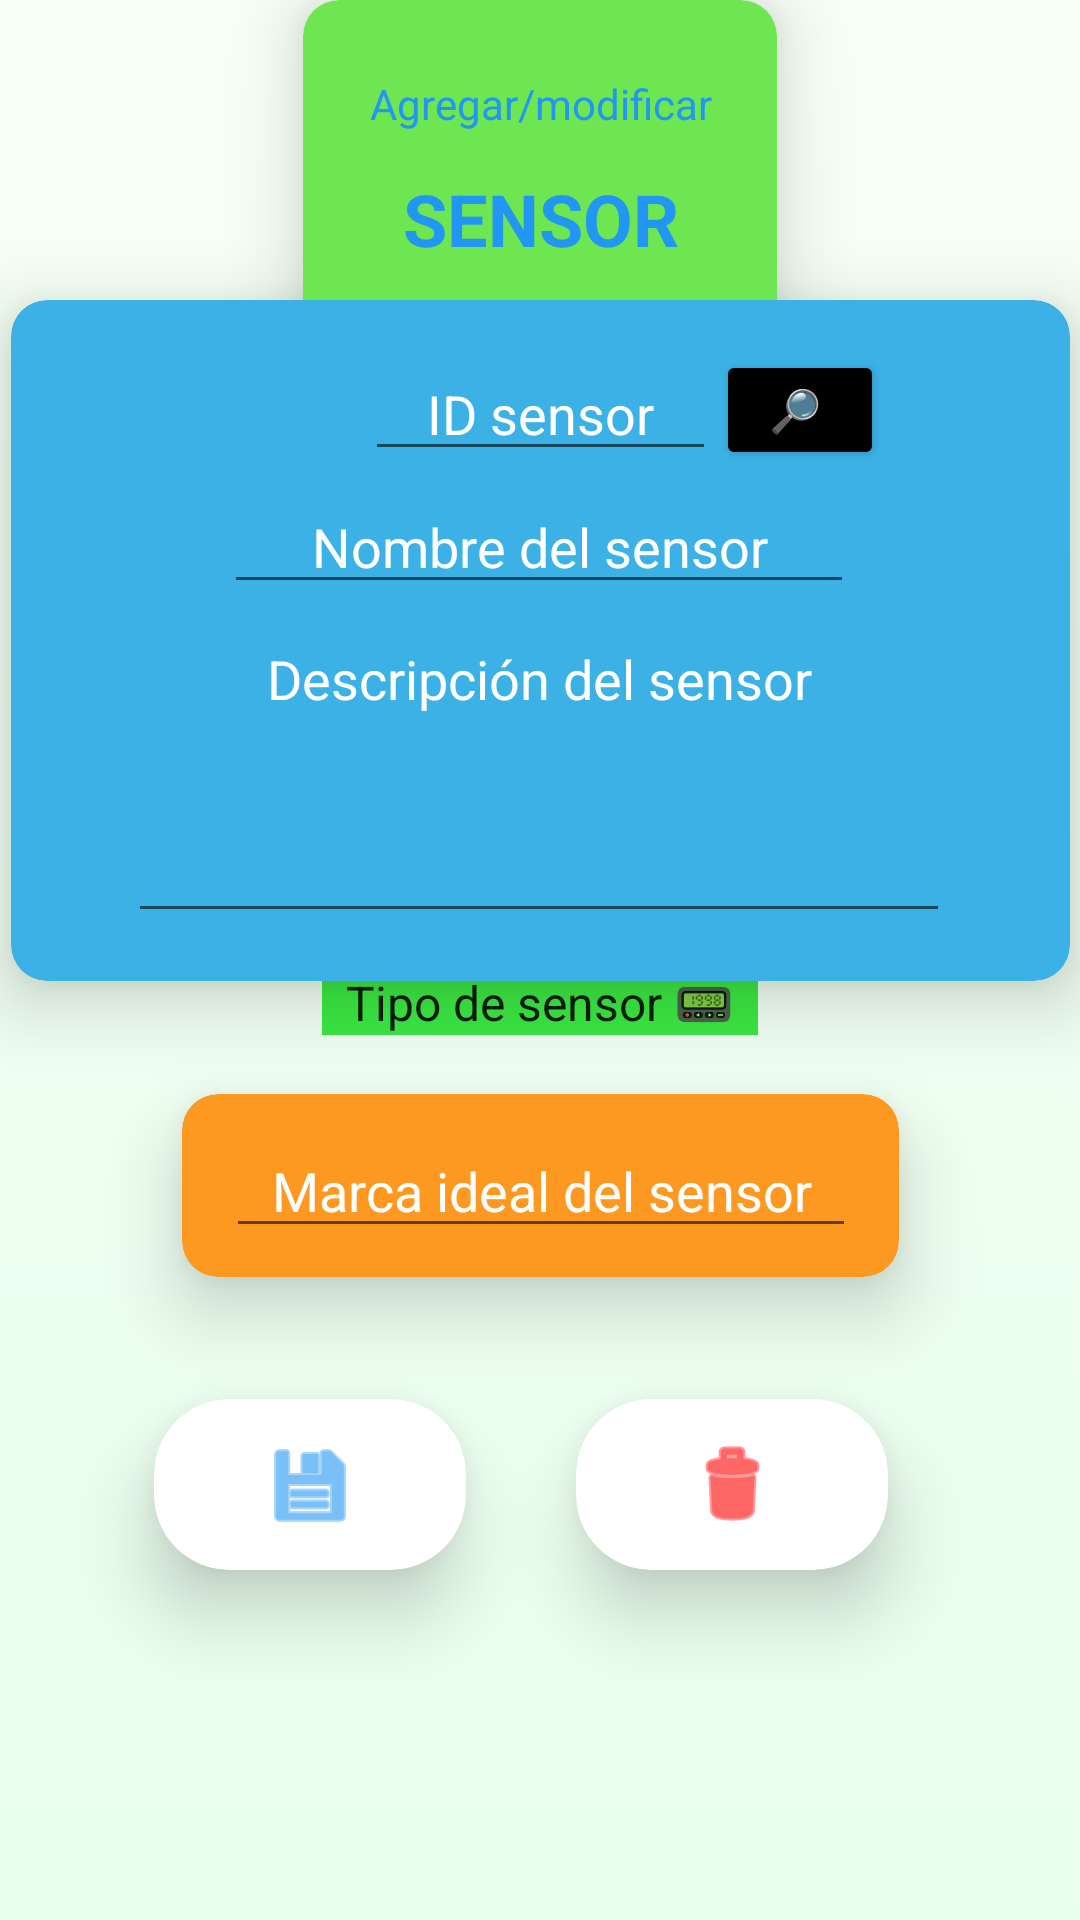

Named icons in this screenshot (1080x1920) and their centers, (x,y):
delete: (732,1483)
save: (310,1485)
